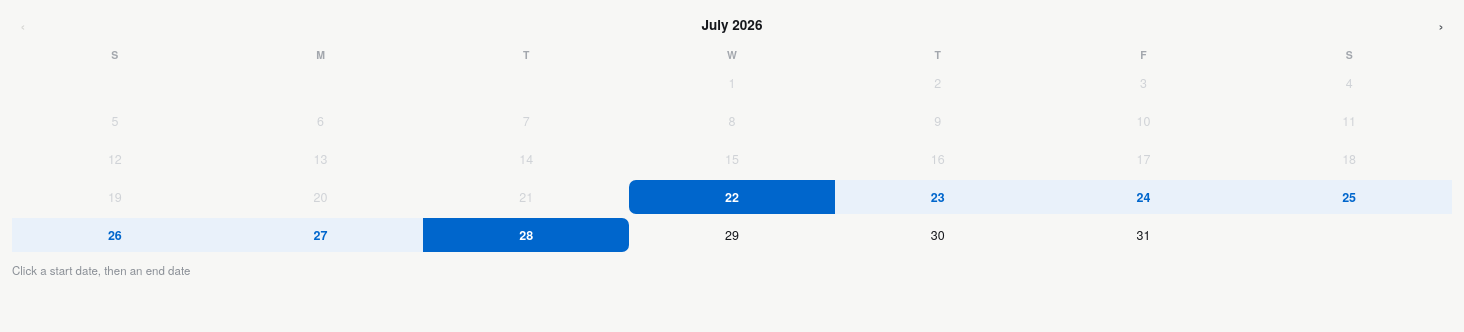
RangePickerComponent › pages forward to August when the next arrow is clicked
Click the button "›".
click(1441, 24)  # box [1430,12,1452,37]
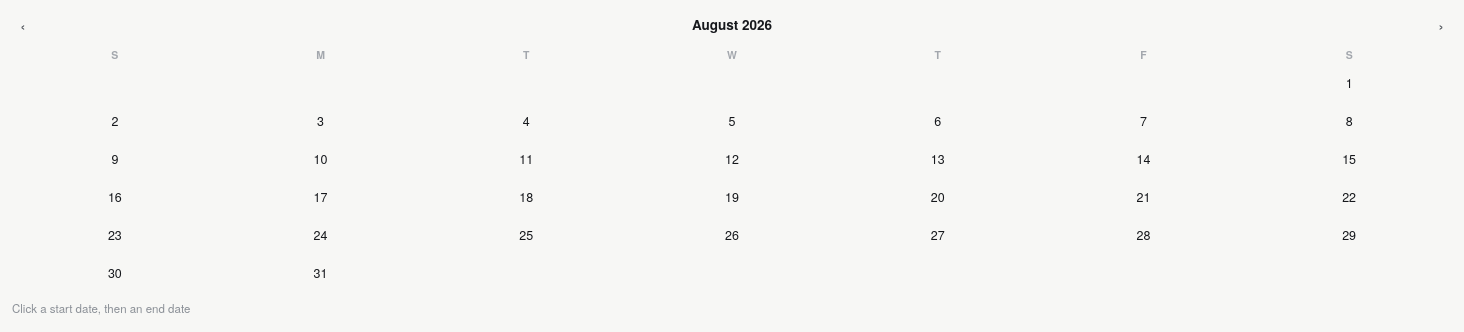
Expected: the text "August 2026" is shown, [692,15,772,34]
